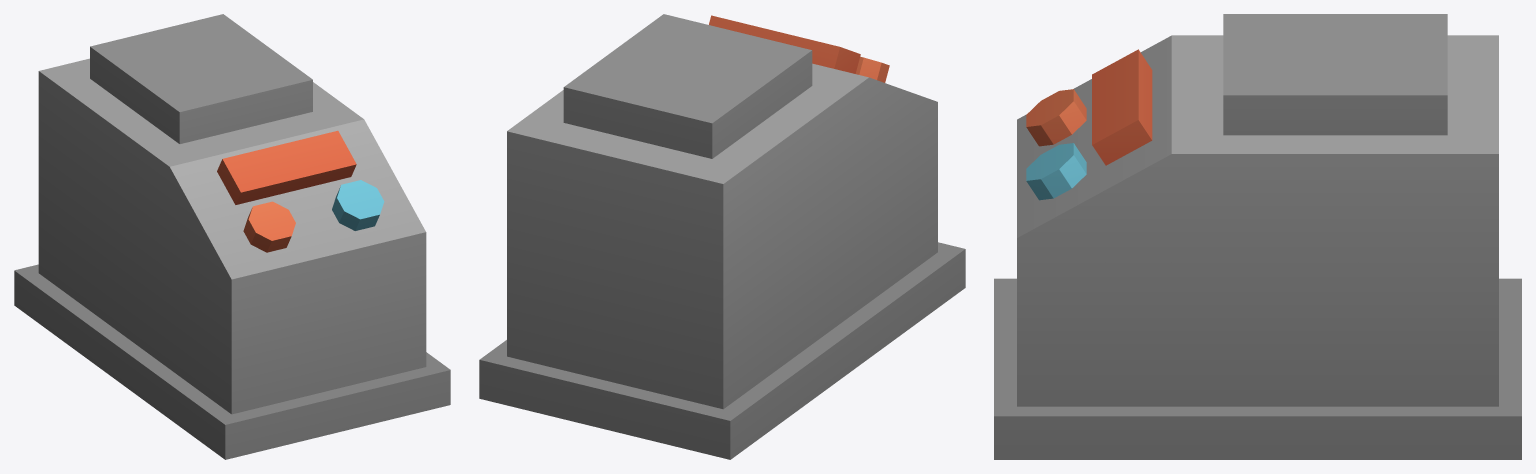
Rendered from remote control.fbx.
The picture shows the model from 3 angles, left to right: view 1: azimuth 30°, elevation 25°; view 2: azimuth 150°, elevation 25°; view 3: azimuth 270°, elevation 25°; orthographic projection. The views are drawn at different scales.
Visible parts, largest first — view 1: remote_control; view 2: remote_control; view 3: remote_control.
Boxes of the visible parts, x1,y1,x2,y2 form: remote_control: [14, 14, 450, 459]; remote_control: [479, 14, 965, 459]; remote_control: [994, 14, 1521, 459].
Bounding box in the file's own units: 118 × 135 × 192.
Materials: 1 (1 with a texture image).
